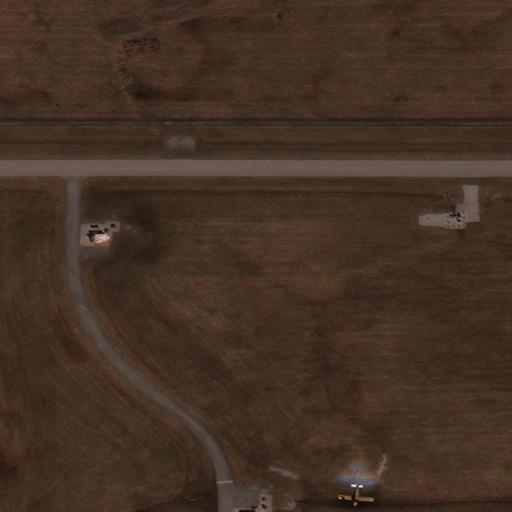Small Civil Transport: (337, 483, 374, 507)
